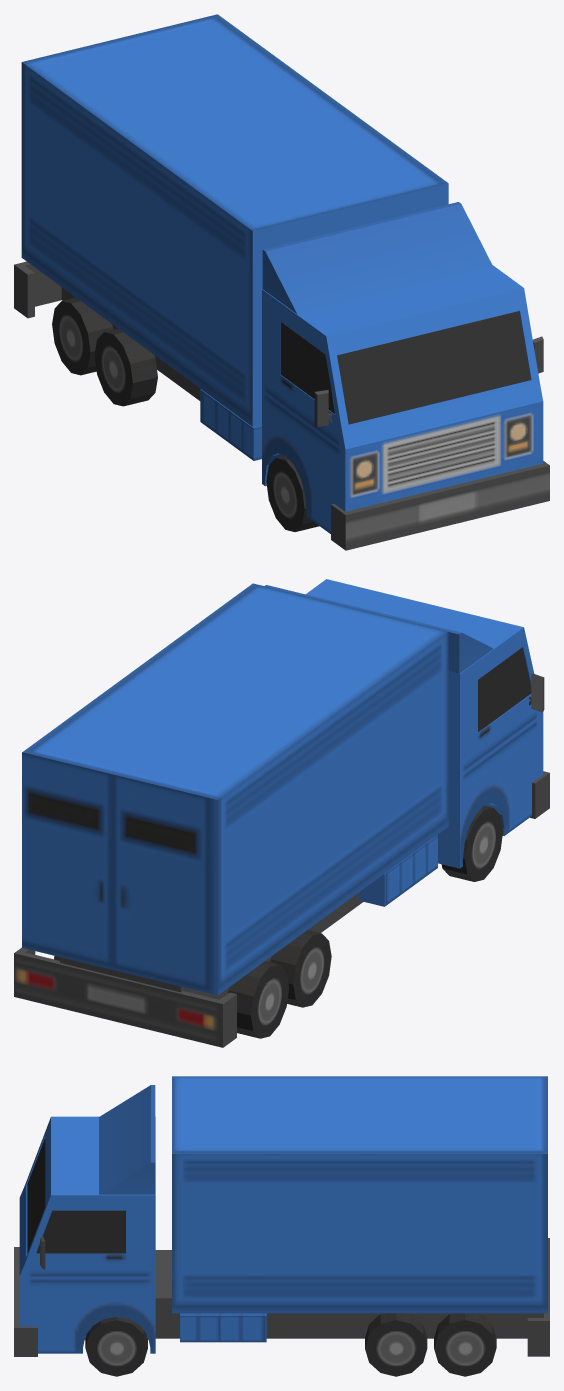
File: Vehicle_Container.fbx
3 views of the same model, one above another, from view 1: azimuth 30°, elevation 25°; view 2: azimuth 150°, elevation 25°; view 3: azimuth 270°, elevation 25° (orthographic). The views are drawn at different scales.
Parts seen in each view (by area): view 1: Vehicle_Container; view 2: Vehicle_Container; view 3: Vehicle_Container.
Boxes of the visible parts, x1,y1,x2,y2 form: Vehicle_Container: (14,14,549,550); Vehicle_Container: (14,579,549,1047); Vehicle_Container: (14,1076,549,1376).
Bounding box in the file's own units: 363 × 416 × 909.
